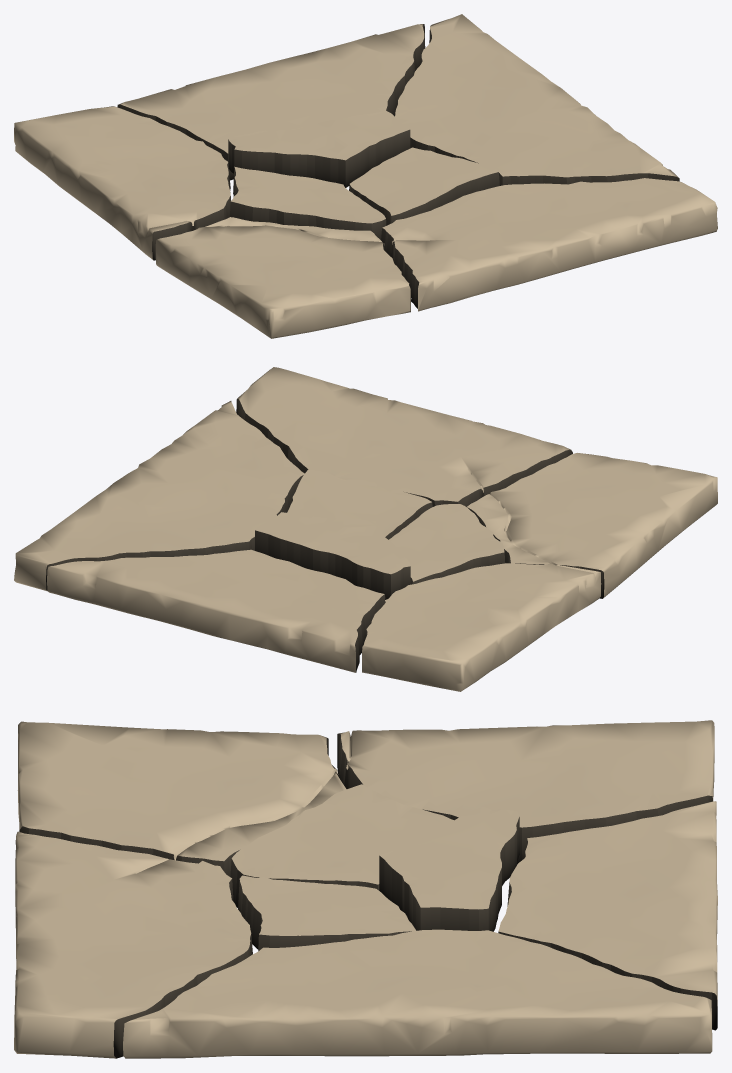
Rendered from slab1-1.glb.
3 renders of one model, top to bottom at view 1: azimuth 30°, elevation 25°; view 2: azimuth 150°, elevation 25°; view 3: azimuth 270°, elevation 25°, orthographic. The views are drawn at different scales.
Parts seen in each view (by area): view 1: damage1-1, chip0; view 2: damage1-1, chip0; view 3: damage1-1, chip0.
Boxes of the visible parts, <box> form: damage1-1: <box>14,14,717,338</box>; chip0: <box>228,111,410,187</box>; damage1-1: <box>14,367,717,691</box>; chip0: <box>255,512,410,599</box>; damage1-1: <box>14,720,717,1058</box>; chip0: <box>379,807,519,931</box>.
Size of the model in its own units: 1.01 by 0.1091 by 1.01.
